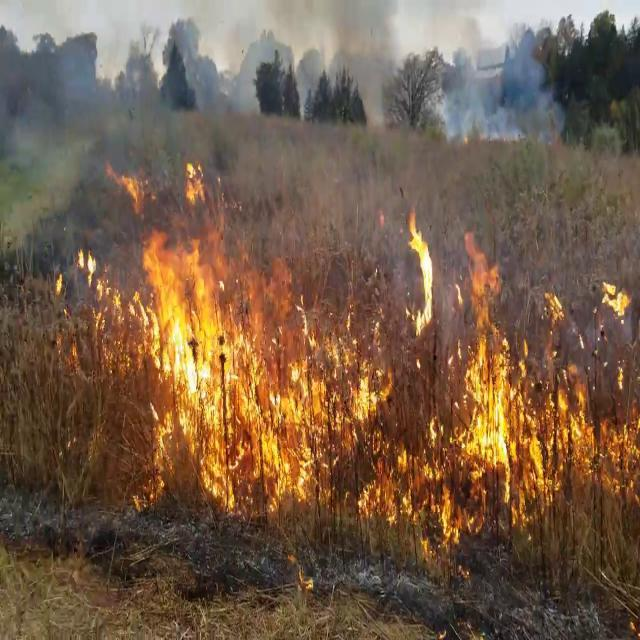Fire: (76, 163, 350, 511), (363, 220, 640, 532), (74, 236, 141, 362), (406, 204, 436, 336)
Smoke: (0, 0, 166, 222), (433, 1, 565, 148), (330, 0, 406, 129)
